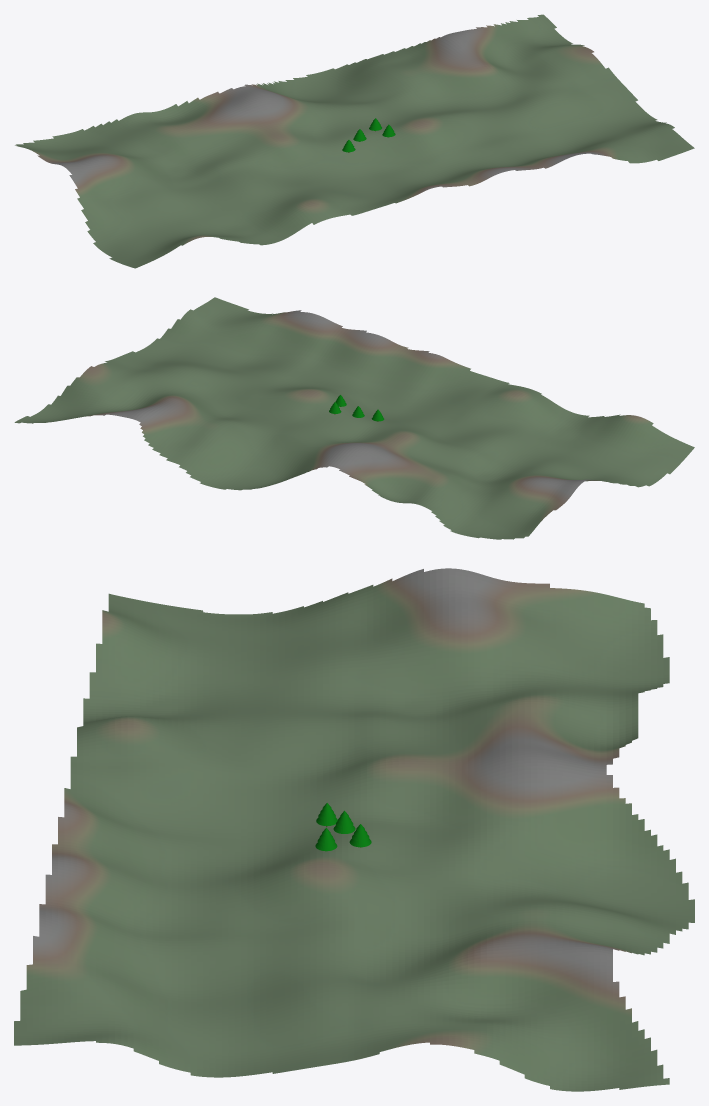
The picture shows the model from 3 angles, top to bottom: view 1: azimuth 30°, elevation 25°; view 2: azimuth 150°, elevation 25°; view 3: azimuth 270°, elevation 25°; orthographic projection. The views are drawn at different scales.
Visible parts, largest first — view 1: Plane; view 2: Plane; view 3: Plane.
Part boxes in pixels (box(x1,y1,x2,y2)): Plane: box(15, 14, 694, 268); Plane: box(14, 297, 694, 539); Plane: box(14, 568, 694, 1091).
Bounding box in the file's own units: 552 × 33.93 × 321.
Materials: 3 (1 with a texture image).
